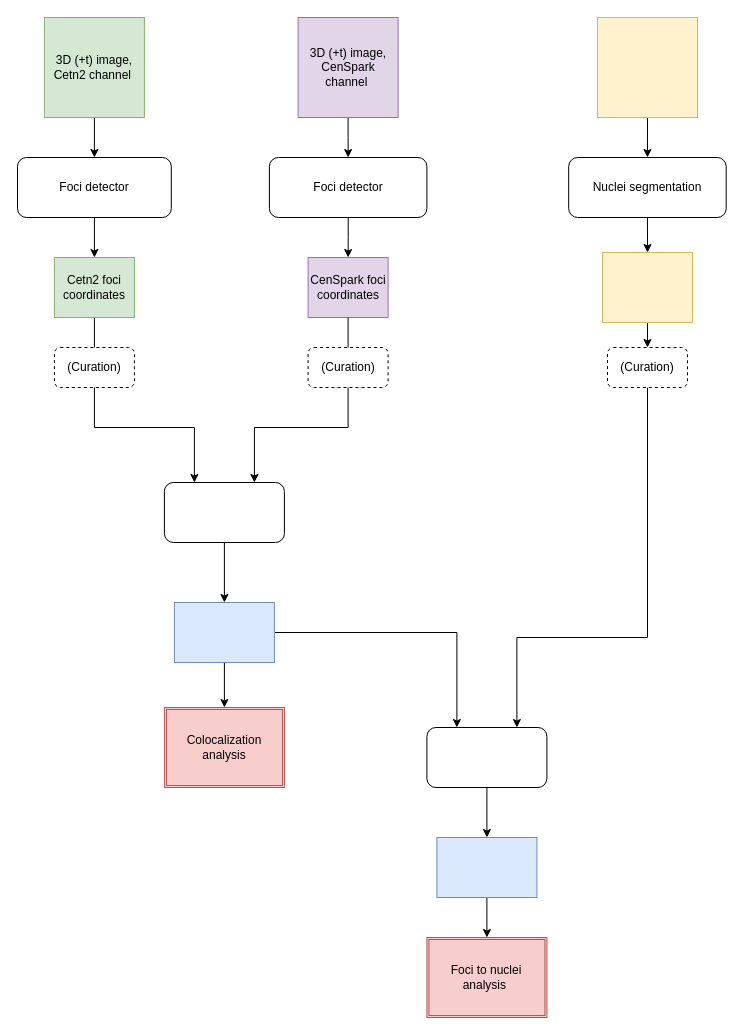
The diagram is 744 pixels wide and 1035 high, and some of its shapes have lost their labels. Each missing label, with the centre of its shape:
"3D (+t) image, H2BmCherry channel" belongs at (647,67).
"Double positive foci coordinates" belongs at (223,632).
"Foci to foci pairing" belongs at (223,512).
"Foci to nuclei pairing" belongs at (486,757).
"Foci to nuclei pairing index" belongs at (486,867).
"Nuclei coordinate and segmentation" belongs at (647,287).
